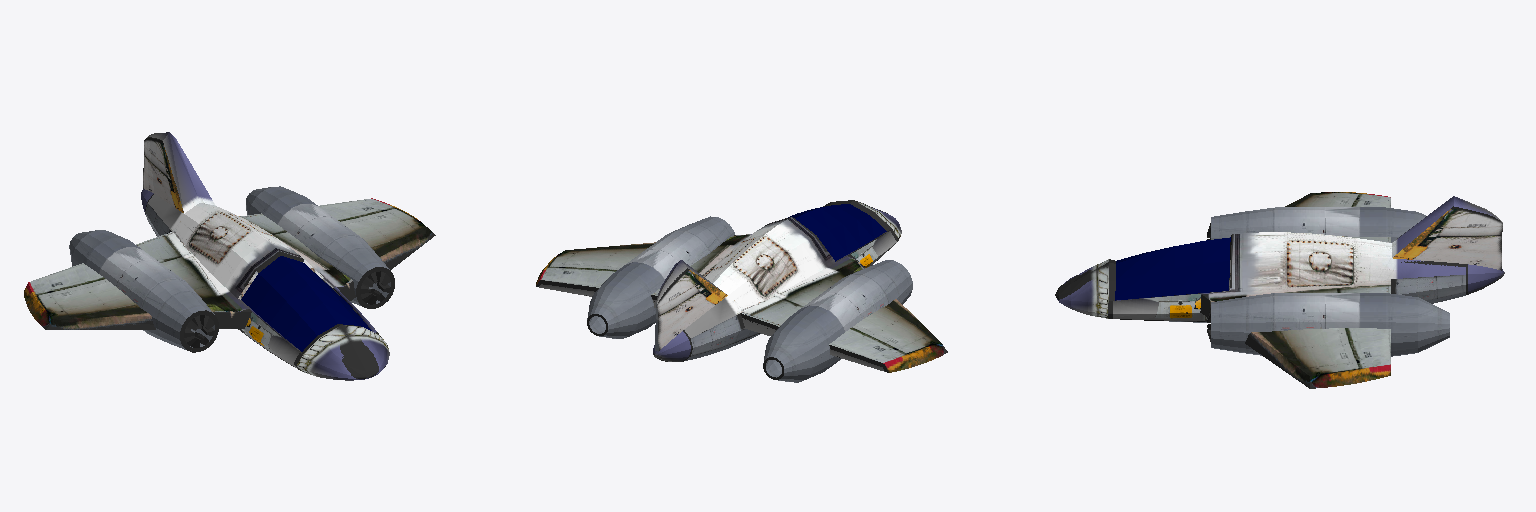
3 views of the same model, side by side, from view 1: azimuth 30°, elevation 25°; view 2: azimuth 150°, elevation 25°; view 3: azimuth 270°, elevation 25° (orthographic).
Parts seen in each view (by area): view 1: OilTank001, LeftTurbine, rightTurbuine, cockpit; view 2: OilTank001, LeftTurbine, rightTurbuine, cockpit; view 3: OilTank001, rightTurbuine, cockpit, LeftTurbine.
Boxes of the visible parts, x1,y1,x2,y2 form: OilTank001: [24, 132, 435, 380]; LeftTurbine: [69, 230, 218, 352]; rightTurbuine: [246, 186, 394, 308]; cockpit: [241, 256, 371, 351]; OilTank001: [536, 200, 947, 372]; LeftTurbine: [763, 260, 912, 382]; rightTurbuine: [587, 216, 734, 338]; cockpit: [788, 204, 886, 261]; OilTank001: [1055, 192, 1504, 388]; rightTurbuine: [1207, 293, 1449, 356]; cockpit: [1115, 237, 1230, 300]; LeftTurbine: [1207, 207, 1425, 242].
Size of the model in its own units: 345 by 102 by 344.
2 materials, 1 textured.